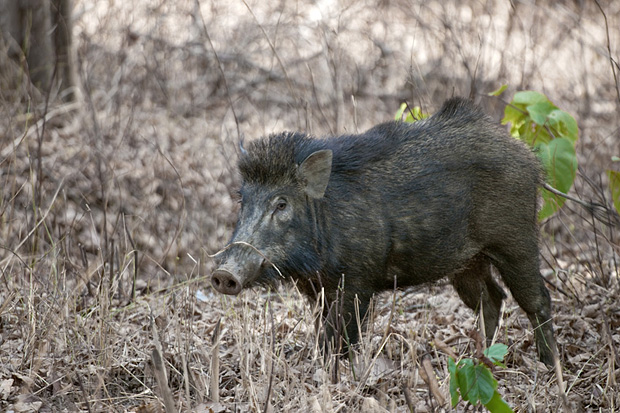wild boar: (202, 96, 580, 372)
